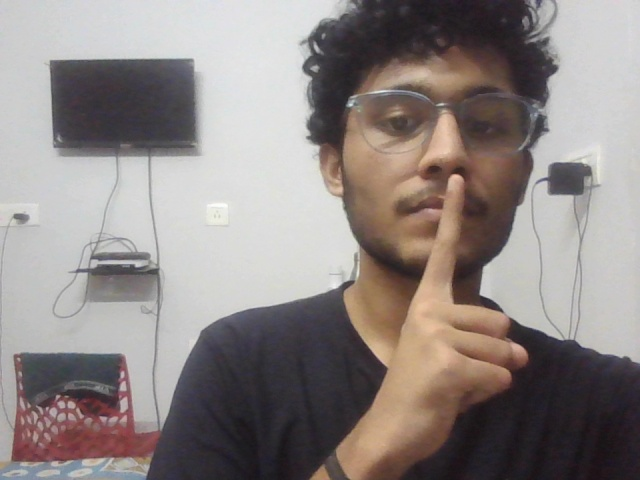Quiet: (336, 162, 542, 474)
